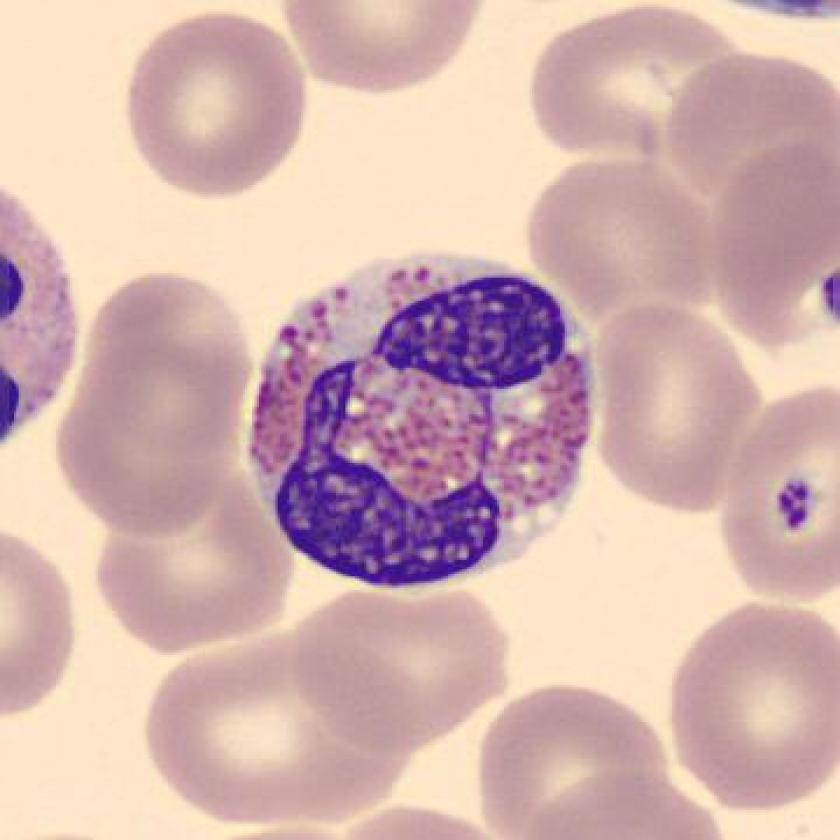eosinophil: (241, 239, 610, 598)
